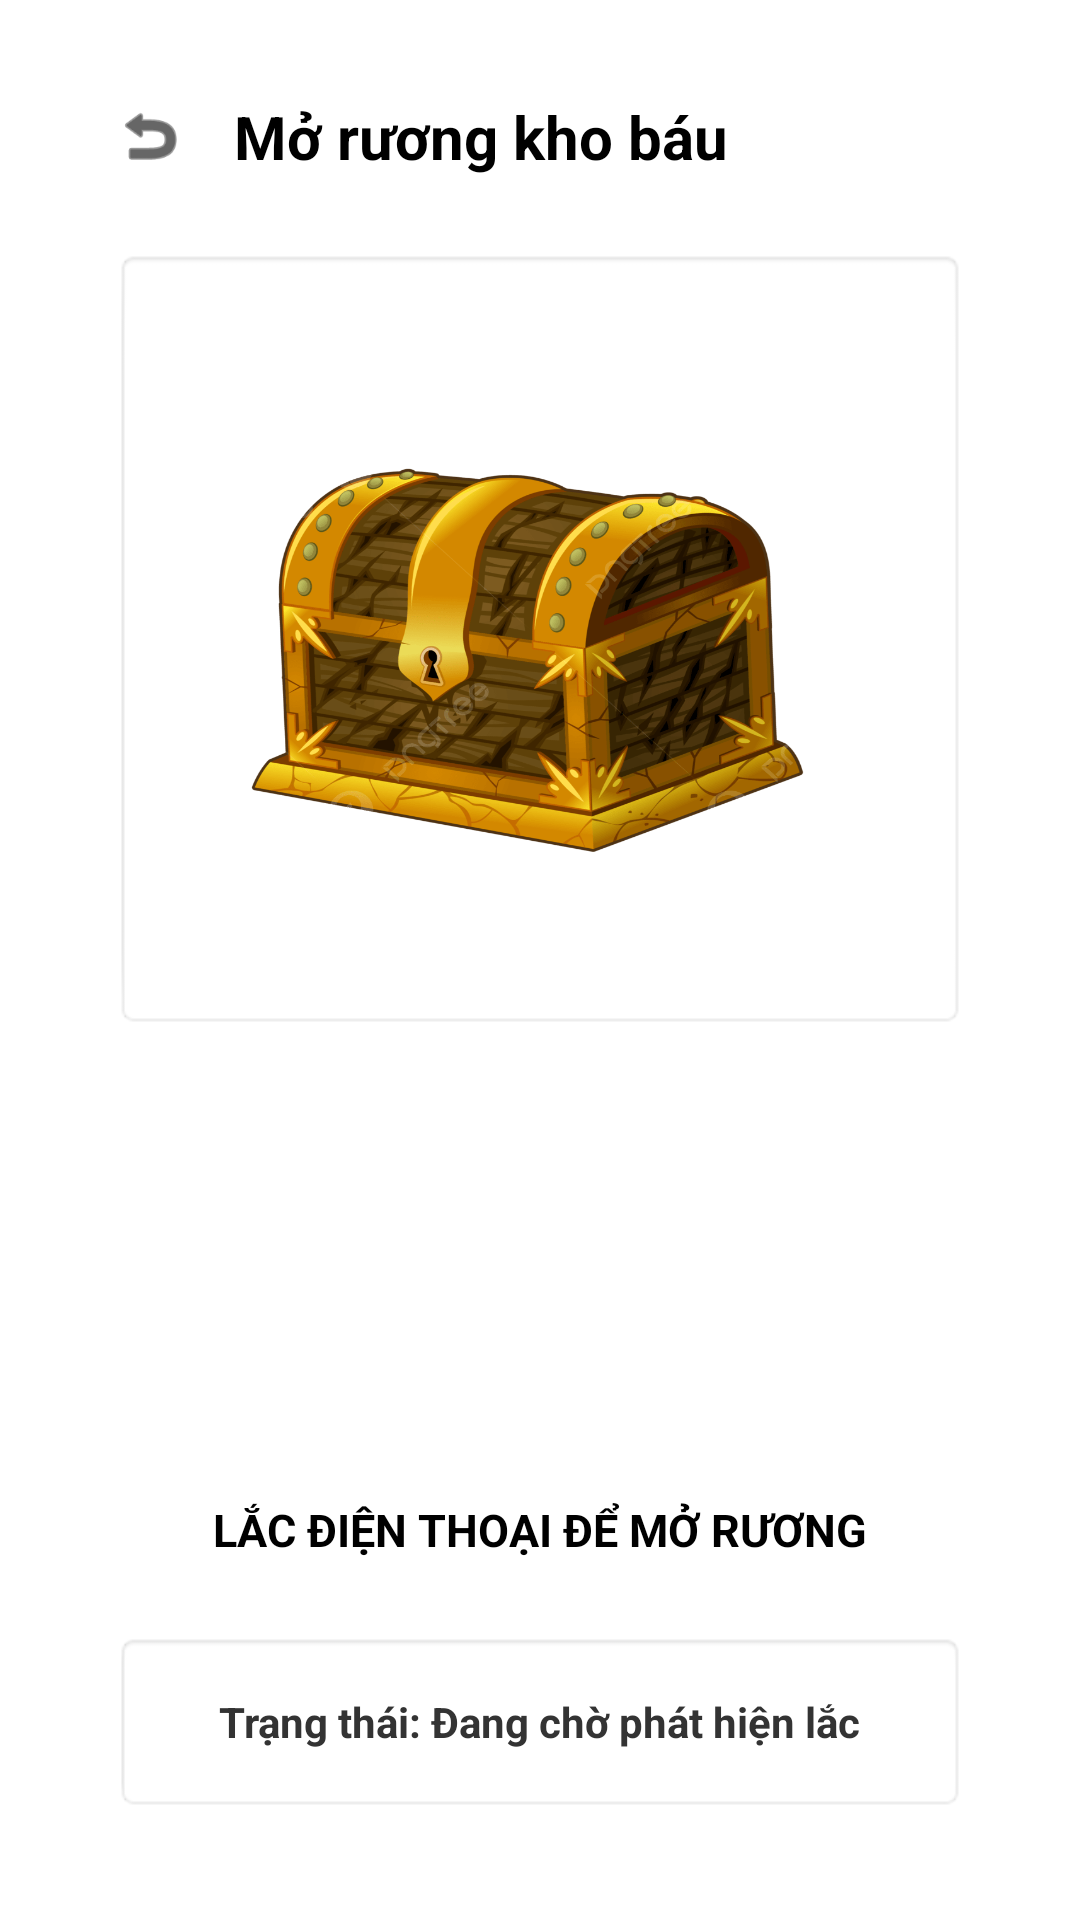

Icon click points for this 1080px×1920px phone screenshot, format point (x, y):
Quay lại: point (151, 136)
